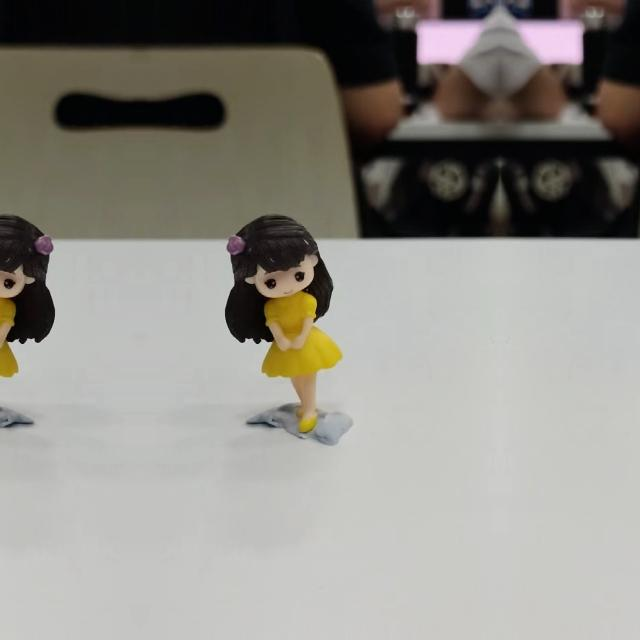woman head: (218, 212, 320, 300), (0, 212, 62, 300)
